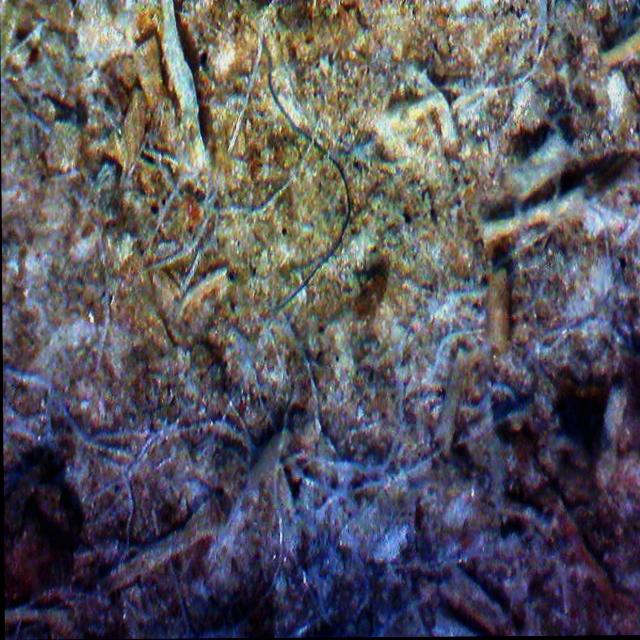microplastic: (235, 33, 365, 313)
